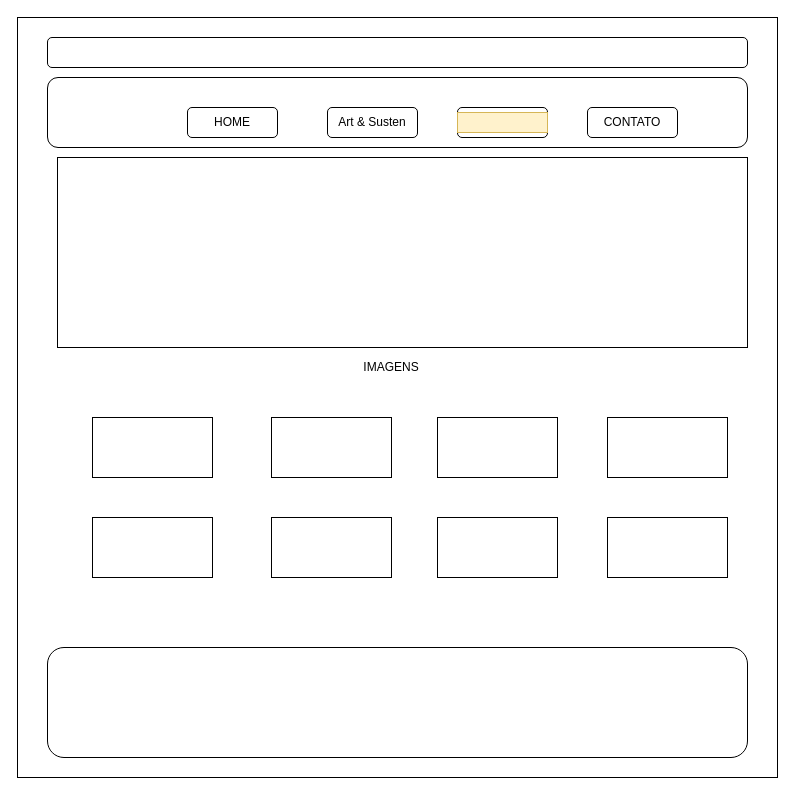
Some shapes in this 795 by 795 pixel diagram are drawn without their labels. The shapes that lost their labels are listed below. From the top down, each one's centre as x and y in pixels, then its label:
the point at 502,122: GALERIA
the point at 397,702: RODAPÉ
